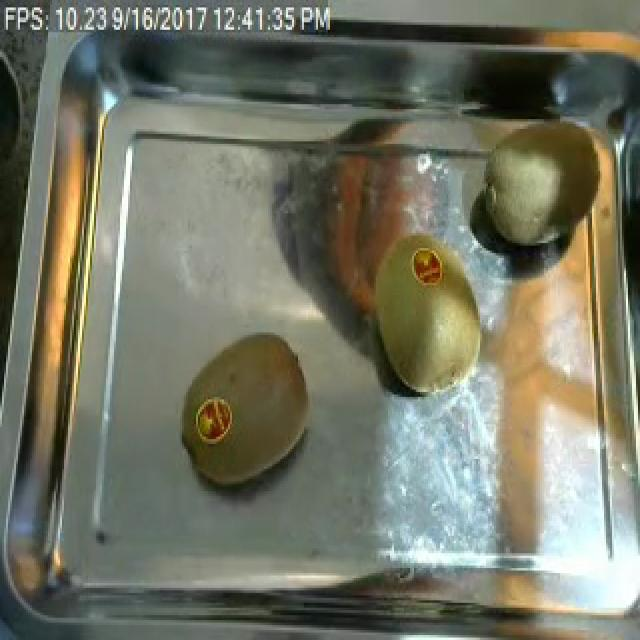Fruit: (278, 171, 494, 407), (470, 104, 638, 261), (180, 325, 318, 496)
